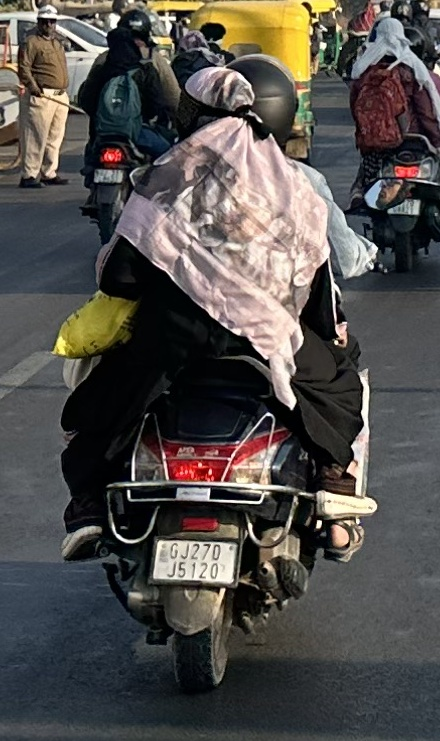BikeWithRider: (44, 48, 387, 701), (69, 3, 184, 253), (338, 12, 439, 278)
Helmet: (216, 50, 302, 154), (113, 5, 158, 48), (404, 25, 426, 60)
NoHelmet: (168, 60, 262, 156), (363, 14, 413, 62), (103, 26, 142, 62), (374, 16, 405, 49)
